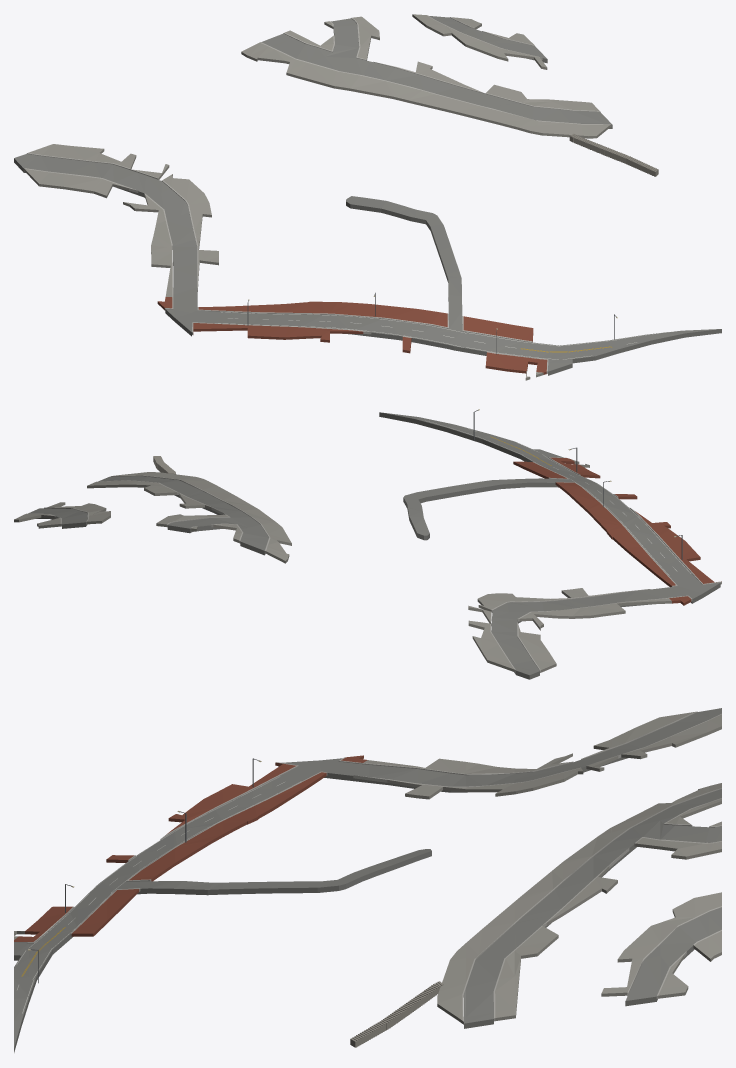
3 views of the same model, one above another, from view 1: azimuth 30°, elevation 25°; view 2: azimuth 150°, elevation 25°; view 3: azimuth 270°, elevation 25° (orthographic). The views are drawn at different scales.
Bounding box in the file's own units: 147 × 37.18 × 146.
